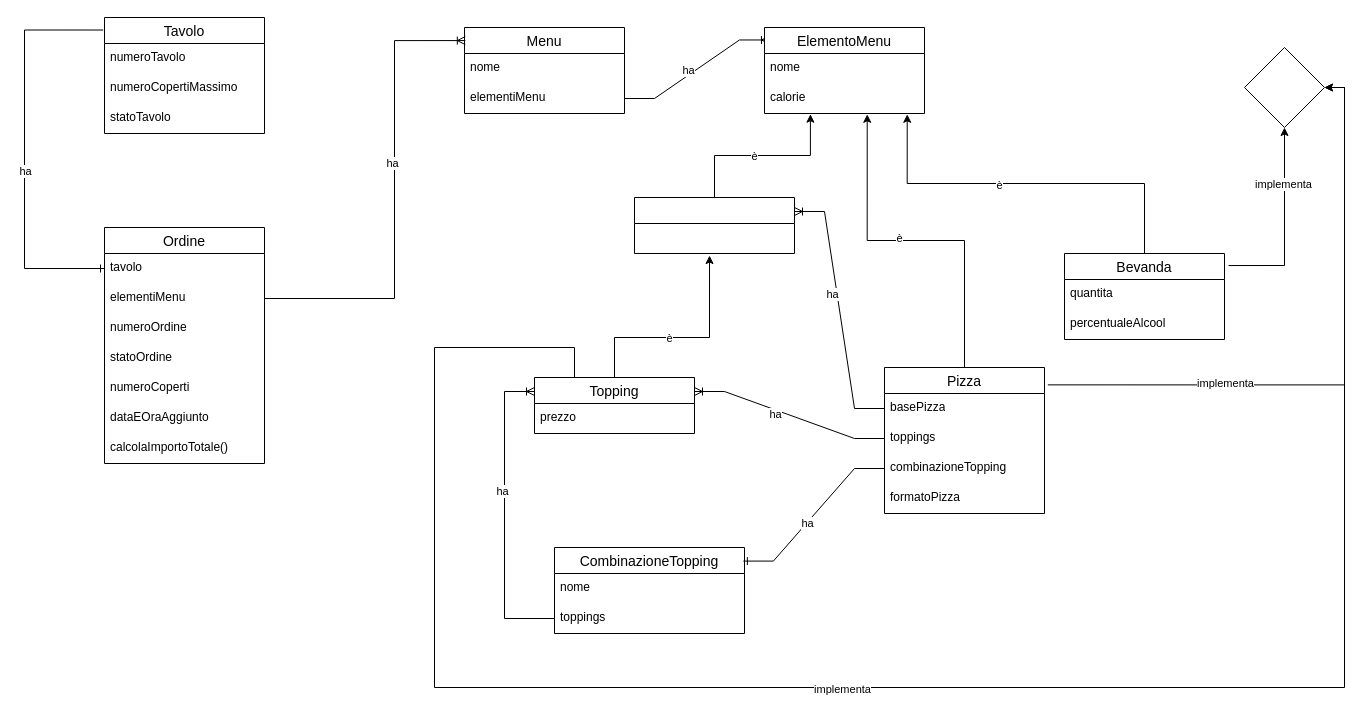
Some shapes in this 1370 by 713 pixel diagram are drawn without their labels. The shapes that lost their labels are listed below. From the top down, each one's centre as x and y in pixels, then its label:
[1284,87]: HaPrezzo
[714,225]: Ingrediente
